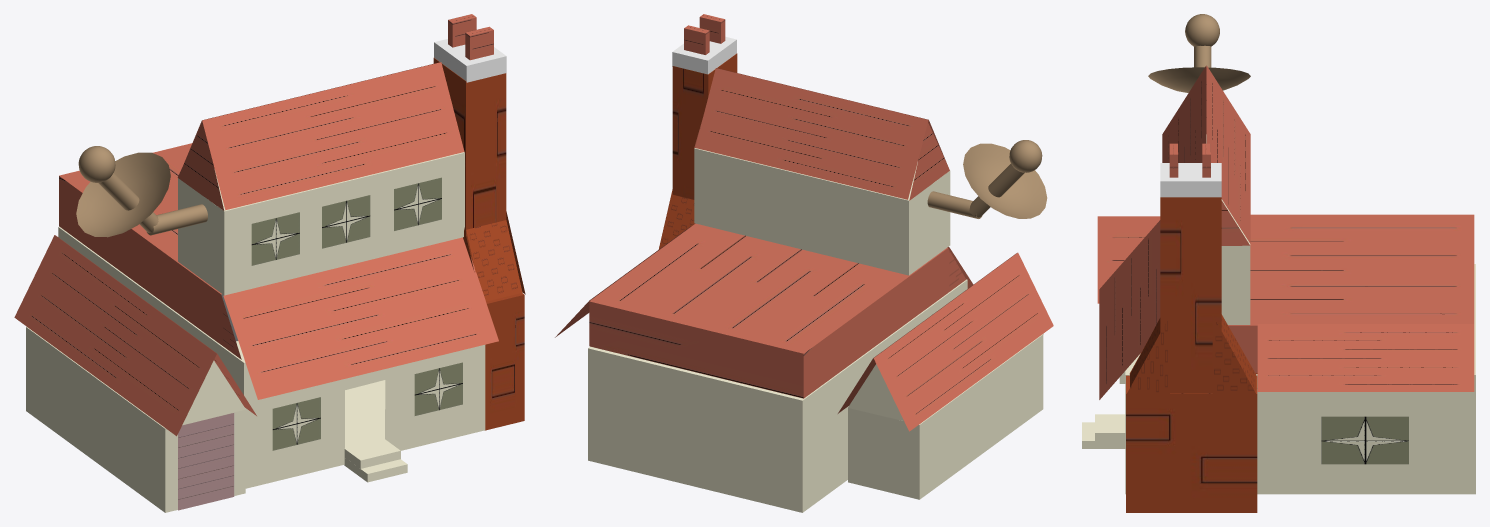
File: Casa.obj
The picture shows the model from 3 angles, left to right: view 1: azimuth 30°, elevation 25°; view 2: azimuth 150°, elevation 25°; view 3: azimuth 270°, elevation 25°; orthographic projection. The views are drawn at different scales.
Visible parts, largest first — view 1: pCube3, pPlane4, polySurface11 polySurface10, pCube4, polySurface10 polySurface13, group7_pasted__pPlane6, pCube9, pSphere3, pasted__pasted__pPlane4 pasted__group4 group13, pasted__pPlane4 group4, pasted__pasted__pPlane4 pasted__group4 group5, pasted__pasted__pasted__pPlane4 pasted__pasted__group4 pasted__g (+6 smaller); view 2: pCube9, pCube4, pCube3, polySurface10 polySurface13, polySurface10 polySurface12, pSphere3, group7_pasted__pPlane6, polySurface10 polySurface15, pCube10, pasted__pCube11 group15, pCube11; view 3: group7_pasted__pPlane6, pCube9, pCube4, pasted__pPlane4 group9, pPlane4, polySurface10 polySurface12, pPlane8, pSphere3, pCube3, polySurface11 polySurface10, polySurface10 polySurface13, pCube10 (+2 smaller).
Boxes of the visible parts, left/top/right/bottom form: pCube3: left=14, top=235, right=256, bottom=512; pPlane4: left=223, top=237, right=498, bottom=399; polySurface11 polySurface10: left=202, top=62, right=464, bottom=210; pCube4: left=58, top=227, right=485, bottom=488; polySurface10 polySurface13: left=178, top=152, right=464, bottom=295; group7_pasted__pPlane6: left=433, top=58, right=525, bottom=430; pCube9: left=59, top=143, right=238, bottom=344; pSphere3: left=76, top=146, right=207, bottom=237; pasted__pasted__pPlane4 pasted__group4 group13: left=251, top=212, right=299, bottom=265; pasted__pPlane4 group4: left=272, top=397, right=320, bottom=450; pasted__pasted__pPlane4 pasted__group4 group5: left=414, top=362, right=462, bottom=415; pasted__pasted__pasted__pPlane4 pasted__pasted__group4 pasted__g: left=322, top=195, right=370, bottom=248; pCube9: left=589, top=223, right=948, bottom=398; pCube4: left=588, top=279, right=967, bottom=512; pCube3: left=838, top=252, right=1053, bottom=499; polySurface10 polySurface13: left=694, top=148, right=950, bottom=275; polySurface10 polySurface12: left=695, top=68, right=928, bottom=199; pSphere3: left=927, top=140, right=1047, bottom=218; group7_pasted__pPlane6: left=658, top=53, right=737, bottom=249; polySurface10 polySurface15: left=909, top=122, right=949, bottom=200; pCube10: left=672, top=36, right=736, bottom=74; pasted__pCube11 group15: left=684, top=25, right=709, bottom=54; pCube11: left=699, top=14, right=725, bottom=43; group7_pasted__pPlane6: left=1126, top=197, right=1257, bottom=512; pCube9: left=1228, top=214, right=1474, bottom=373; pCube4: left=1125, top=264, right=1475, bottom=494; pasted__pPlane4 group9: left=1257, top=324, right=1474, bottom=391; pPlane4: left=1099, top=220, right=1160, bottom=399; polySurface10 polySurface12: left=1206, top=65, right=1250, bottom=243; pPlane8: left=1321, top=416, right=1408, bottom=464; pSphere3: left=1148, top=14, right=1250, bottom=92; pCube3: left=1097, top=216, right=1160, bottom=383; polySurface11 polySurface10: left=1162, top=66, right=1206, bottom=162; polySurface10 polySurface13: left=1206, top=134, right=1250, bottom=324; pCube10: left=1160, top=163, right=1221, bottom=197.
Size of the model in its own units: 503 by 448 by 449.
9 materials, 8 textured.
